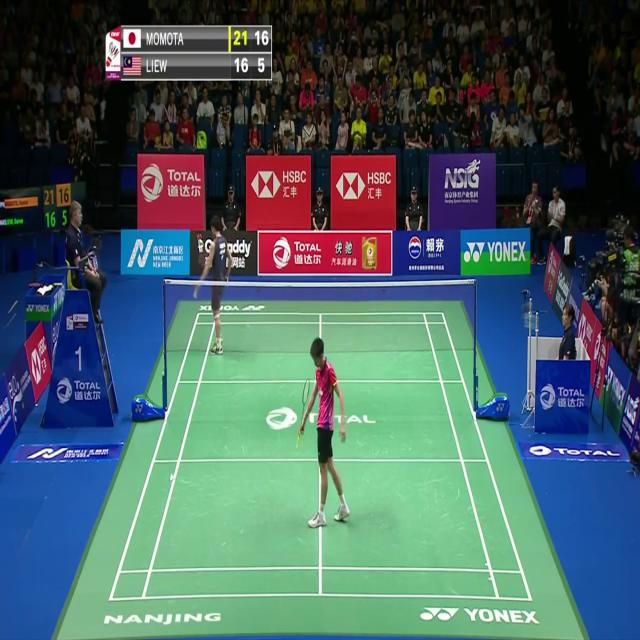Shuttlecock: (169, 472, 176, 483)
